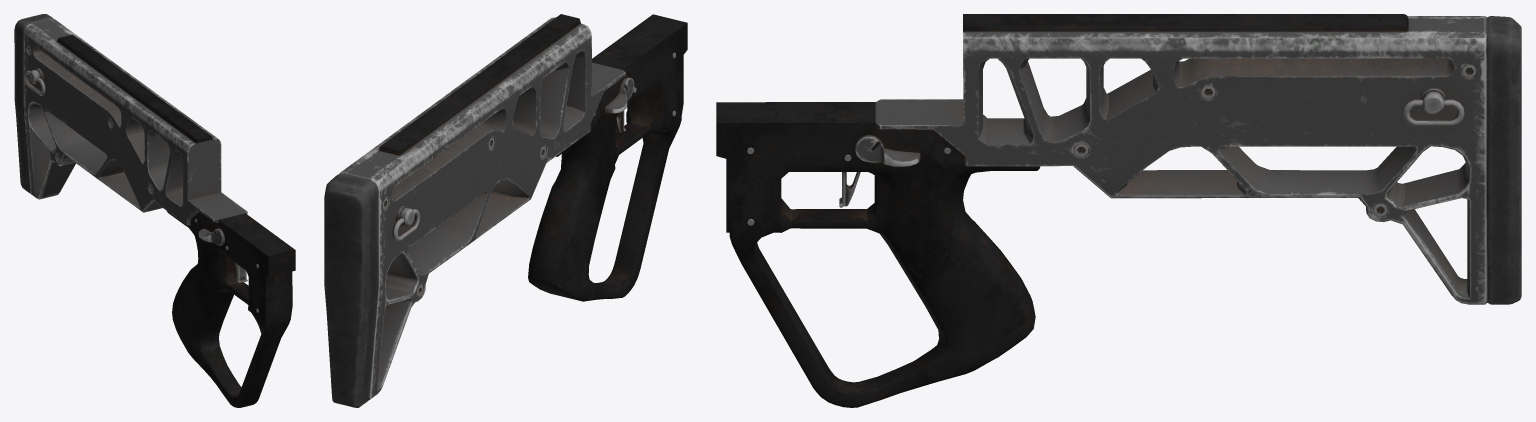
The model's file is Stock_Rifle_3.glb.
The picture shows the model from 3 angles, left to right: view 1: azimuth 30°, elevation 25°; view 2: azimuth 150°, elevation 25°; view 3: azimuth 270°, elevation 25°; orthographic projection. The views are drawn at different scales.
Parts seen in each view (by area): view 1: Stock_Rifle_3; view 2: Stock_Rifle_3; view 3: Stock_Rifle_3.
Boxes of the visible parts, box(x1,y1,x2,y2) form: Stock_Rifle_3: box(14, 14, 295, 407); Stock_Rifle_3: box(324, 14, 687, 407); Stock_Rifle_3: box(716, 14, 1521, 407).
Bounding box in the file's own units: 0.0411 × 0.1902 × 0.3621.
1 material, 1 textured.
